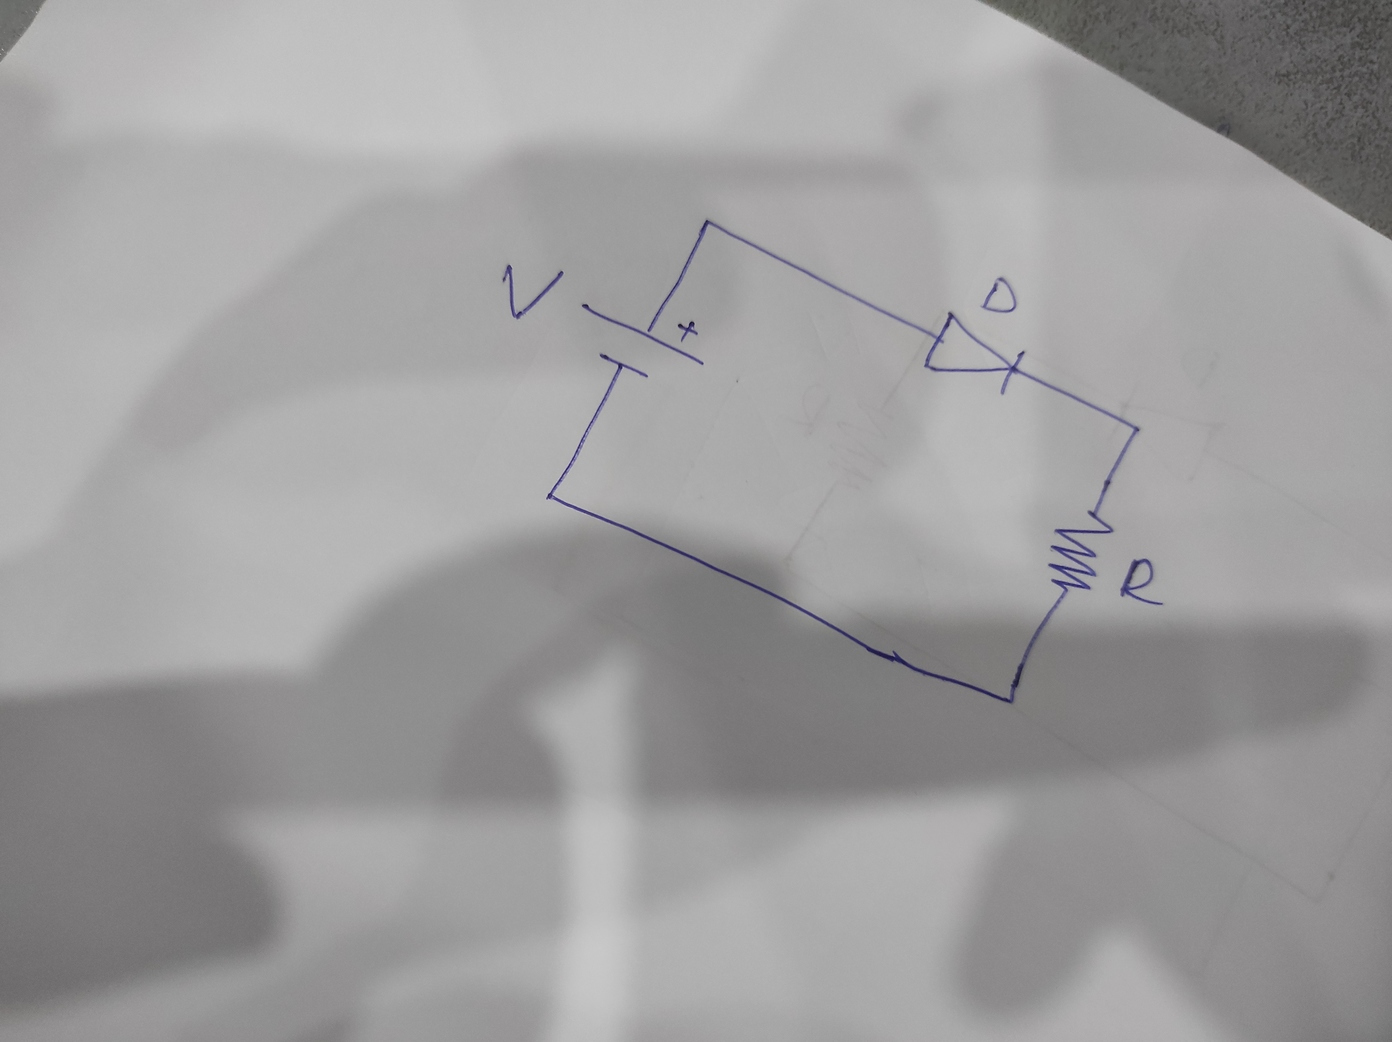diode: (923, 309, 1026, 398)
junction: (995, 686, 1026, 713), (541, 481, 564, 509), (696, 210, 720, 234), (1123, 419, 1146, 443)
resistor: (1046, 506, 1115, 599)
text: (501, 263, 565, 322), (1118, 553, 1165, 610), (979, 273, 1019, 316)
voltage.dc: (579, 301, 710, 382)
